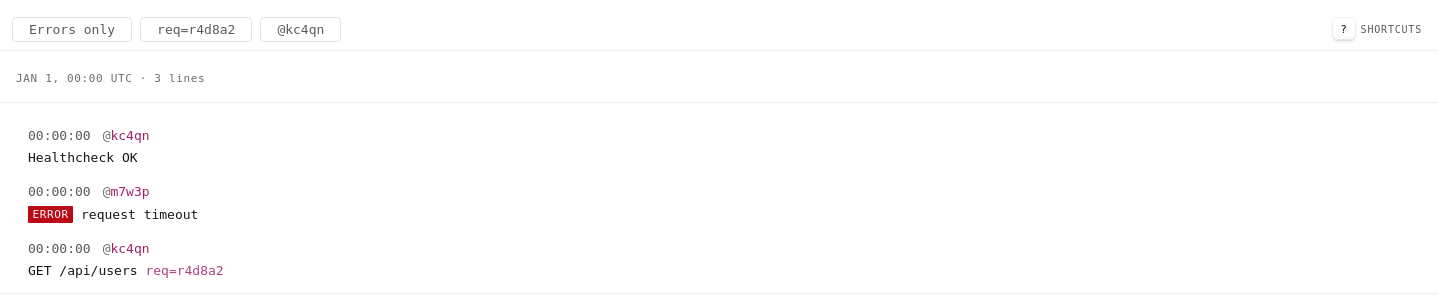
Test: LogExplorer › clicking the active chip again clears the filter
The width and height of the screenshot is (1438, 295).
Click the button "Errors only": click(72, 29) top-left (12, 16), bottom-right (132, 42)
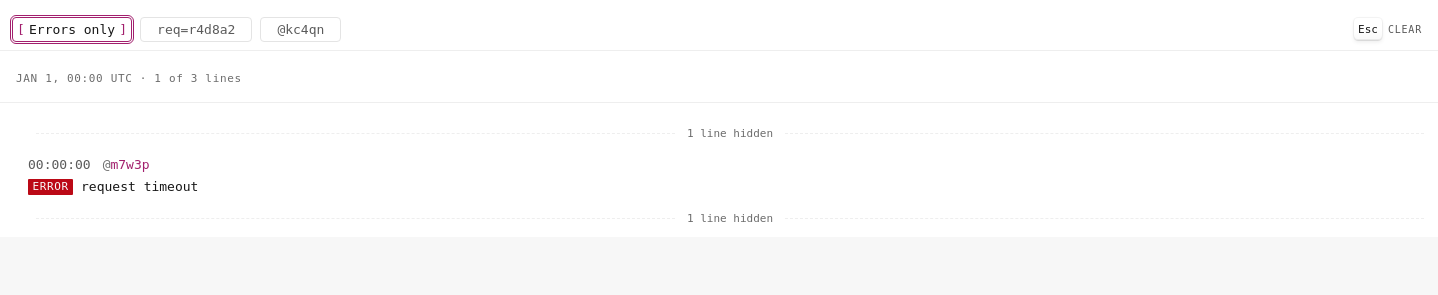
Click the button "Errors only": click(72, 29) top-left (12, 16), bottom-right (132, 42)
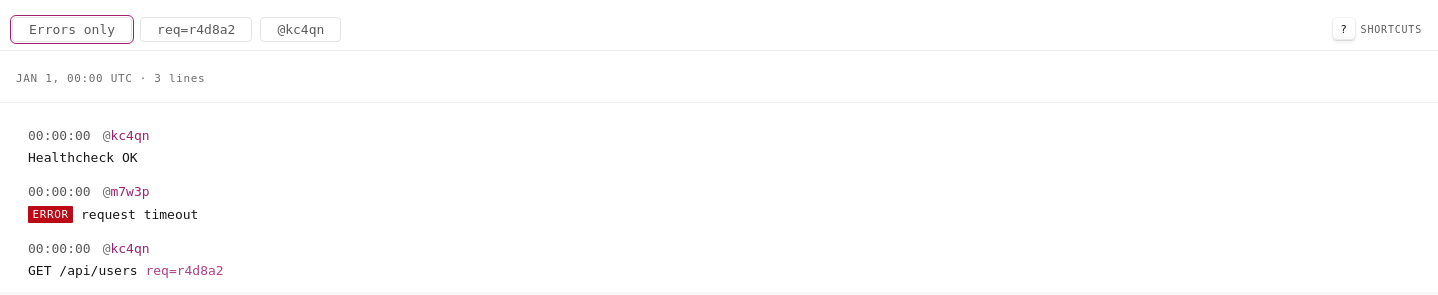
Expected: the text "request timeout" is shown, top-left (81, 207), bottom-right (198, 222)
Result: the text "Healthcheck OK" is shown at top-left (28, 150), bottom-right (138, 165)
Result: the text "GET /api/users" is shown at top-left (28, 263), bottom-right (138, 278)
